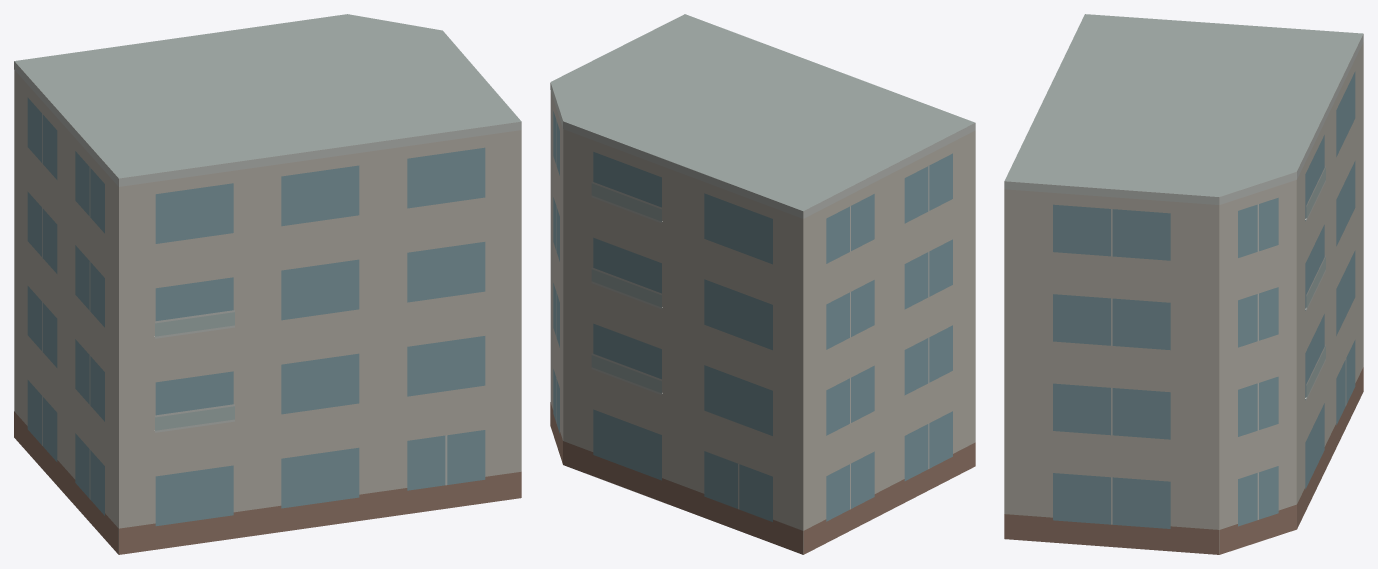
Rendered from survey-upis-32675968.glb.
3 views of the same model, side by side, from view 1: azimuth 30°, elevation 25°; view 2: azimuth 150°, elevation 25°; view 3: azimuth 270°, elevation 25° (orthographic). The views are drawn at different scales.
Parts seen in each view (by area): view 1: survey-upis-32675968.tmp; view 2: survey-upis-32675968.tmp; view 3: survey-upis-32675968.tmp.
Part boxes in pixels (left/top/right/bottom): survey-upis-32675968.tmp: left=14, top=14, right=521, bottom=554; survey-upis-32675968.tmp: left=550, top=14, right=975, bottom=554; survey-upis-32675968.tmp: left=1004, top=14, right=1363, bottom=554.
Size of the model in its own units: 11.98 by 10.9 by 9.93.
